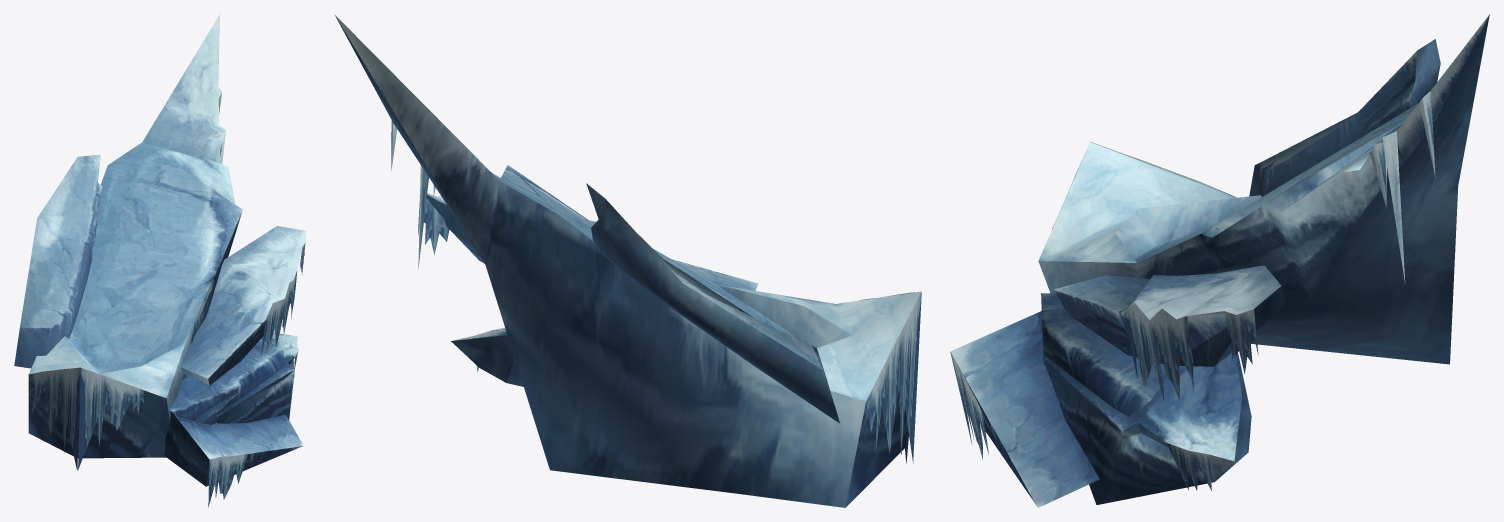
Rendered from bs_binshan_11.FBX.
3 renders of one model, left to right at view 1: azimuth 30°, elevation 25°; view 2: azimuth 150°, elevation 25°; view 3: azimuth 270°, elevation 25°, orthographic. The views are drawn at different scales.
Visible parts, largest first — view 1: bs_binshan_11; view 2: bs_binshan_11; view 3: bs_binshan_11.
Part boxes in pixels (x1,y1,x2,y2): bs_binshan_11: (14,14,305,507); bs_binshan_11: (334,14,921,507); bs_binshan_11: (950,14,1489,507).
Size of the model in its own units: 3271 by 3221 by 3746.
